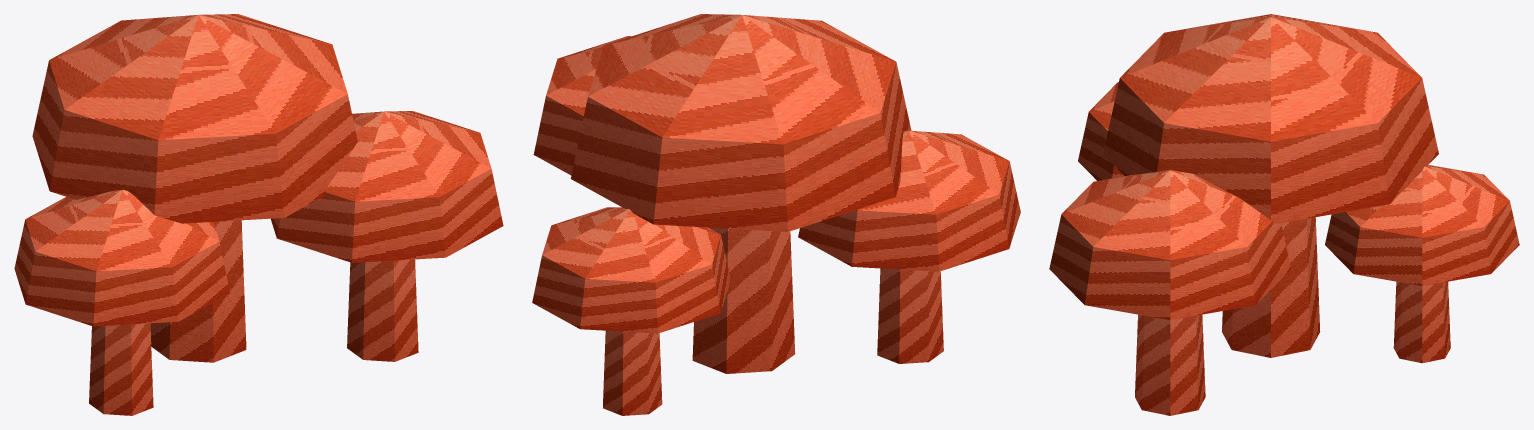
File: fungo_de_brasa.glb
3 views of the same model, side by side, from view 1: azimuth 30°, elevation 25°; view 2: azimuth 150°, elevation 25°; view 3: azimuth 270°, elevation 25° (orthographic). The views are drawn at different scales.
Parts seen in each view (by area): view 1: fungo_de_brasa; view 2: fungo_de_brasa; view 3: fungo_de_brasa.
Part boxes in pixels (x1,y1,x2,y2): fungo_de_brasa: [14, 14, 503, 415]; fungo_de_brasa: [532, 14, 1020, 415]; fungo_de_brasa: [1049, 14, 1519, 415].
Size of the model in its own units: 0.5833 by 0.399 by 0.532.
1 material, 1 textured.
